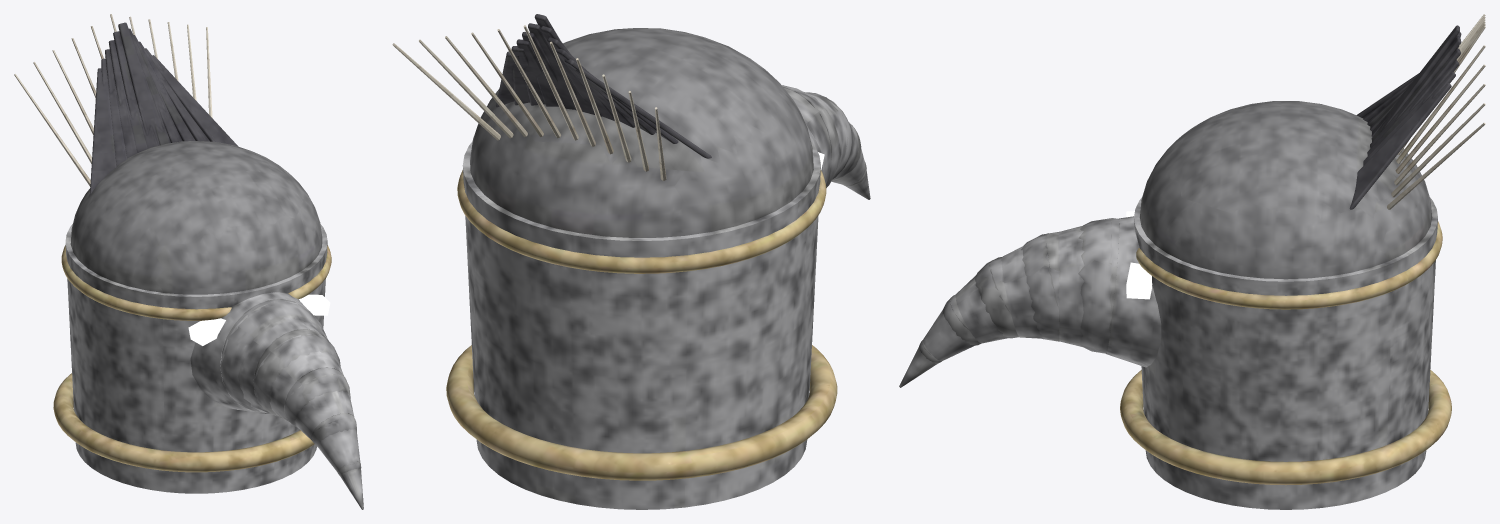
The model's file is raven.glb.
The picture shows the model from 3 angles, left to right: view 1: azimuth 30°, elevation 25°; view 2: azimuth 150°, elevation 25°; view 3: azimuth 270°, elevation 25°; orthographic projection. The views are drawn at different scales.
Parts seen in each view (by area): view 1: metal_iron, cloth_black, metal_brass, bone_old, glow_cold; view 2: metal_iron, metal_brass, cloth_black, bone_old; view 3: metal_iron, metal_brass, cloth_black, bone_old, glow_cold.
Part boxes in pixels (x1,y1,x2,y2): metal_iron: (65, 141, 363, 509); cloth_black: (90, 22, 238, 194); metal_brass: (53, 245, 331, 472); bone_old: (14, 14, 212, 186); glow_cold: (188, 294, 330, 345); metal_iron: (462, 28, 870, 509); metal_brass: (446, 170, 837, 480); cloth_black: (496, 14, 711, 158); bone_old: (392, 25, 666, 180); metal_iron: (899, 101, 1437, 509); metal_brass: (1120, 221, 1451, 485); cloth_black: (1349, 25, 1461, 209); bone_old: (1387, 14, 1485, 209); glow_cold: (1126, 211, 1152, 299).
Size of the model in its own units: 0.284 by 0.4005 by 0.5016.
Materials: 5 (4 with a texture image).
